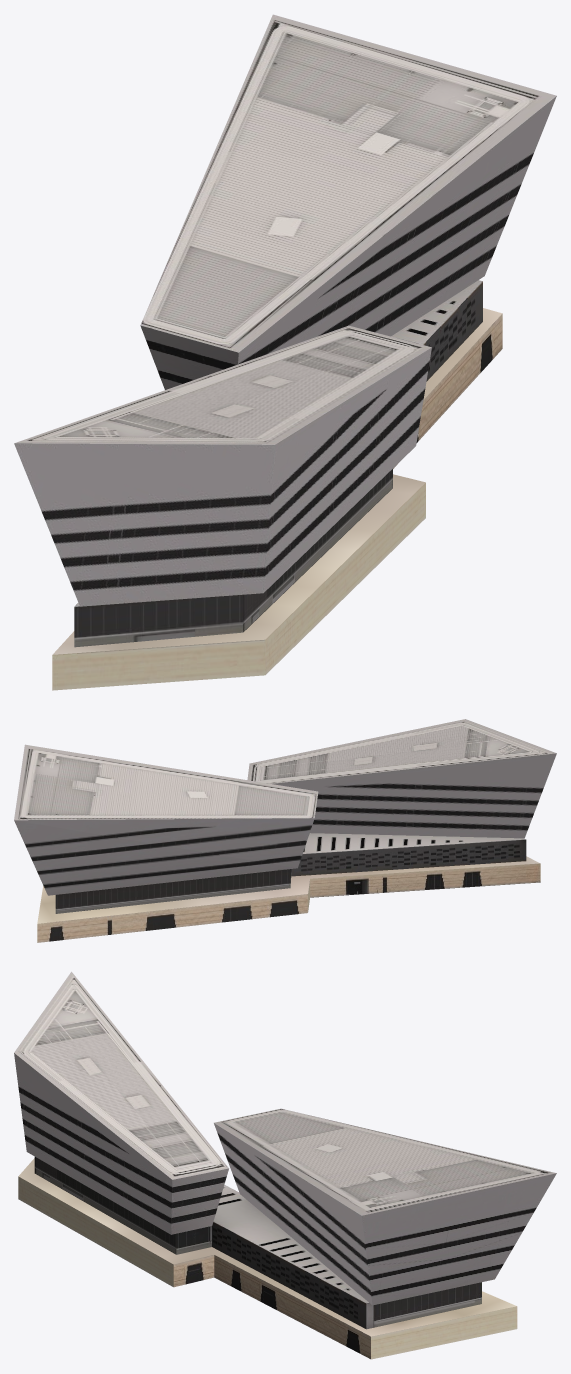
The picture shows the model from 3 angles, top to bottom: view 1: azimuth 30°, elevation 25°; view 2: azimuth 150°, elevation 25°; view 3: azimuth 270°, elevation 25°; orthographic projection. The views are drawn at different scales.
Parts seen in each view (by area): view 1: 402.001; view 2: 402.001; view 3: 402.001.
Boxes of the visible parts, x1,y1,x2,y2 form: 402.001: [14, 14, 556, 690]; 402.001: [14, 719, 556, 942]; 402.001: [14, 971, 556, 1359].
Bounding box in the file's own units: 113 × 35.5 × 108.
1 material, 1 textured.
